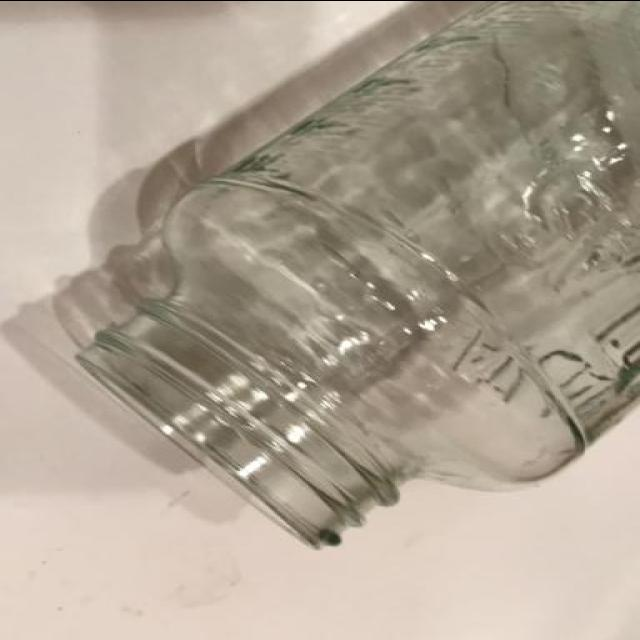litter: (76, 1, 638, 549)
